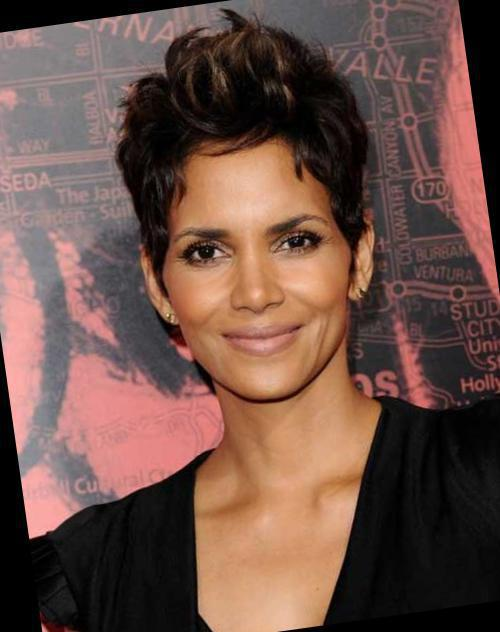Sober: (173, 153, 345, 386)
